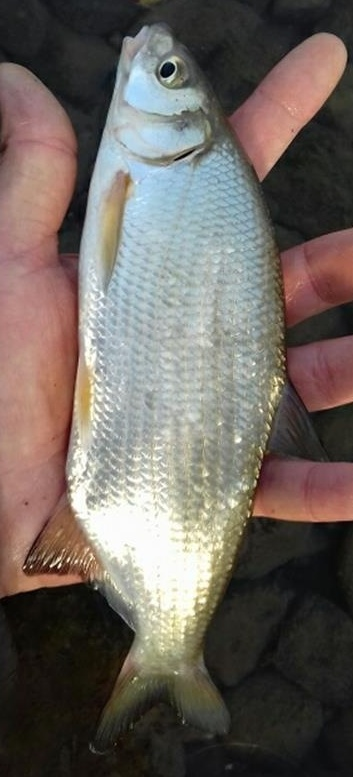Vimba vimba: (20, 20, 333, 757)
